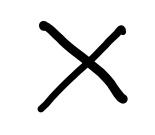mult: (37, 20, 127, 114)
